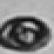correct: (0, 12, 54, 54)
